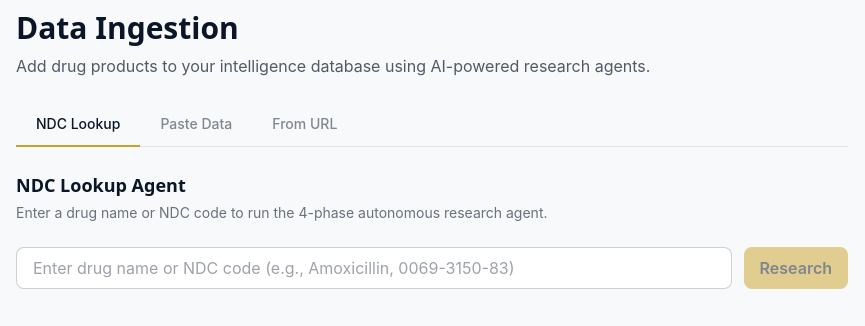
Scenario: IngestionHub › switches to From URL tab on click
Step 1. Click the tab with test id "tab-from-url" → (305, 124), box [252, 102, 357, 146]
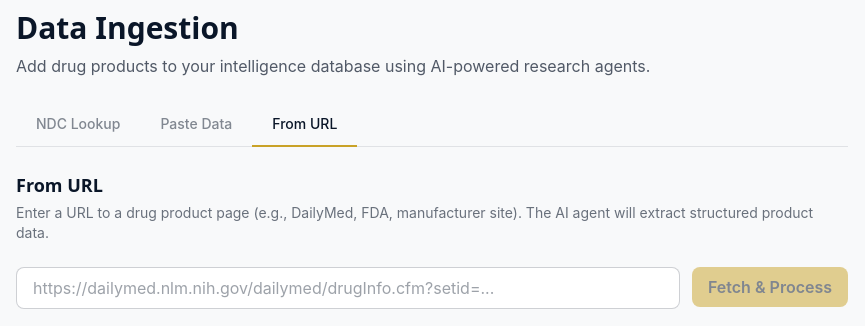
Expected: the heading "From URL" is shown, [16, 173, 103, 197]
Expected: the field with test id "url-input" is shown, [16, 267, 680, 309]
